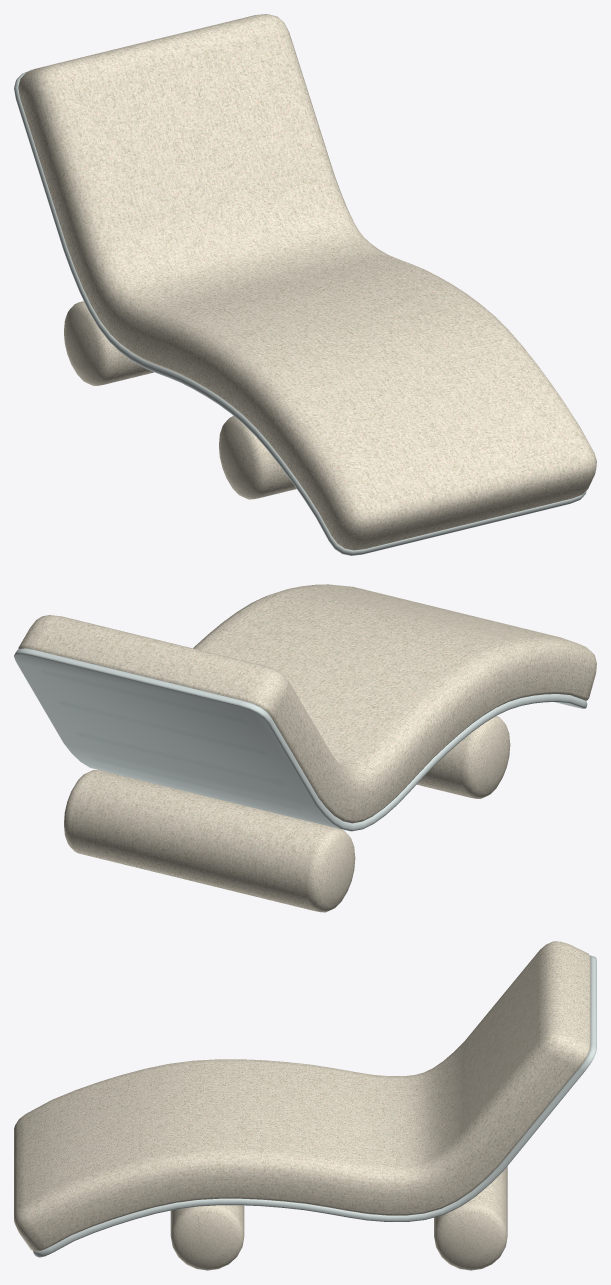
Rendered from PoolLounger02_2.FBX.
3 renders of one model, top to bottom at view 1: azimuth 30°, elevation 25°; view 2: azimuth 150°, elevation 25°; view 3: azimuth 270°, elevation 25°, orthographic. The views are drawn at different scales.
Visible parts, largest first — view 1: PoolLounger02_2; view 2: PoolLounger02_2; view 3: PoolLounger02_2.
Part boxes in pixels (box(x1,y1,x2,y2)): PoolLounger02_2: box(14, 14, 596, 555); PoolLounger02_2: box(14, 584, 596, 912); PoolLounger02_2: box(14, 941, 596, 1270).
Size of what is drawn, in the model's own units: 0.7404 by 0.733 by 1.66.
